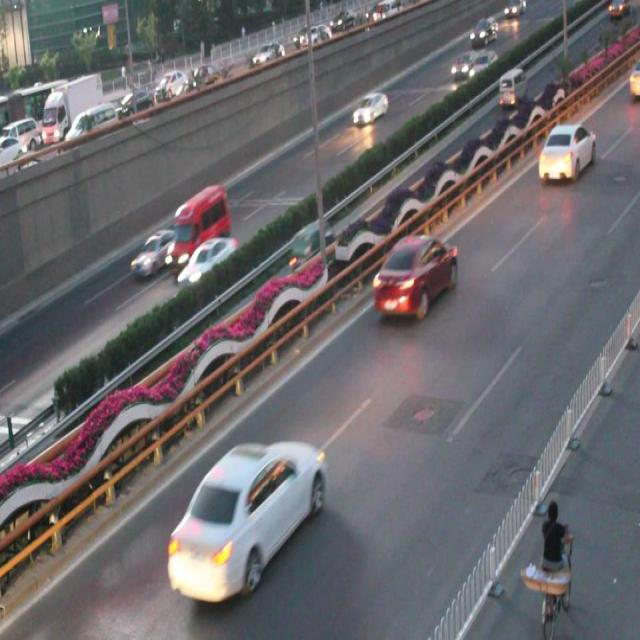car: (165, 439, 327, 602), (373, 238, 457, 320), (535, 124, 595, 182), (176, 234, 236, 286), (130, 230, 179, 276), (289, 220, 333, 266), (351, 90, 388, 128)
truck: (164, 186, 234, 262), (496, 69, 527, 109)
